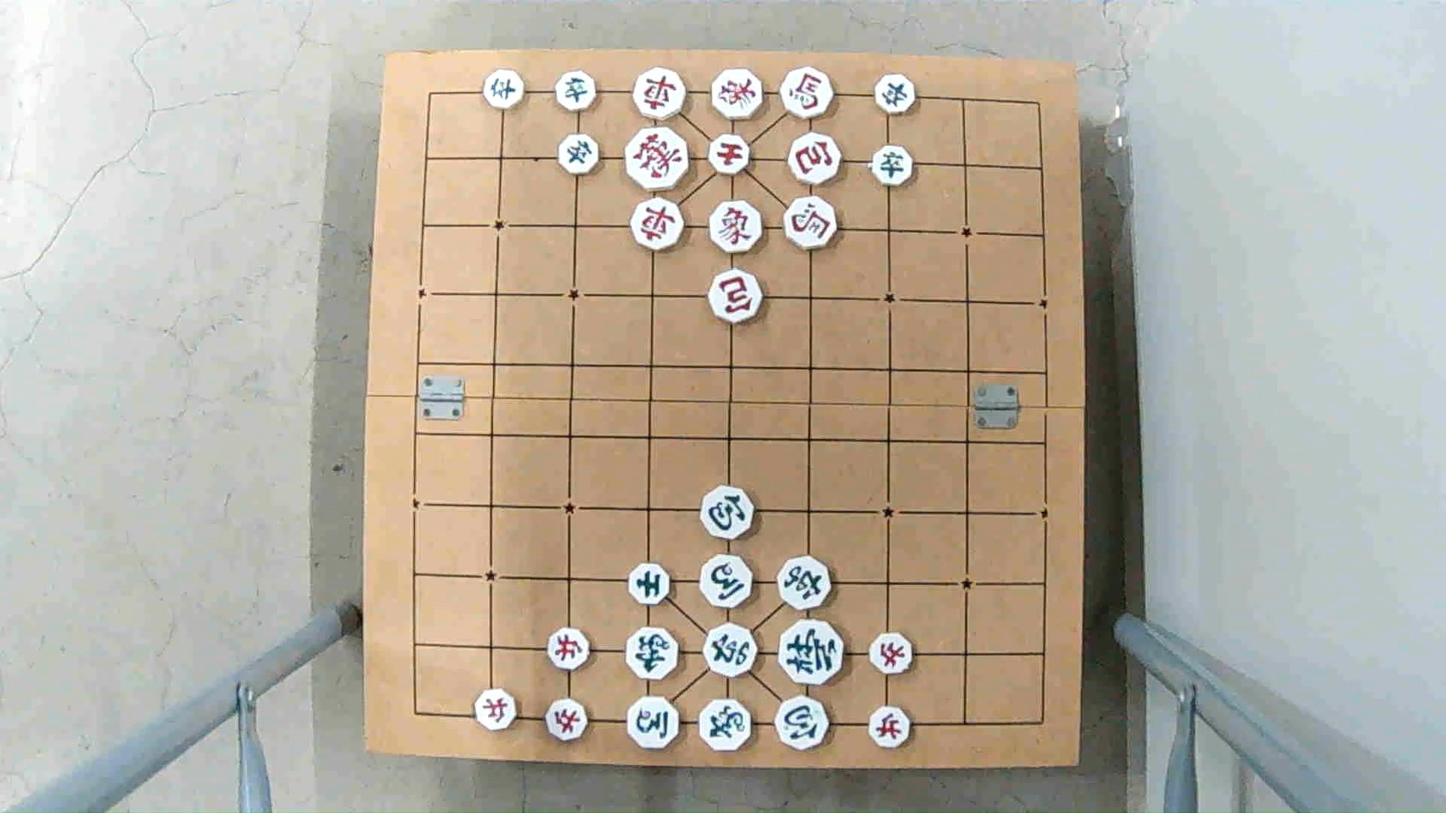cha_green: (702, 626, 758, 676), (776, 559, 831, 609)
cha_red: (633, 67, 685, 120), (630, 202, 685, 249)
jol_green: (872, 145, 917, 183), (557, 137, 599, 175), (874, 76, 917, 113), (555, 74, 597, 111), (484, 73, 527, 109)
jol_red: (868, 635, 915, 674), (868, 708, 913, 747), (548, 629, 593, 668), (547, 699, 592, 738), (476, 692, 520, 730)
ma_green: (626, 698, 683, 749), (701, 557, 757, 608)
ma_red: (785, 199, 841, 249), (781, 68, 835, 117)
po_green: (776, 699, 832, 748), (700, 488, 755, 537)
po_red: (707, 272, 764, 321), (790, 135, 844, 182)
sa_green: (627, 562, 673, 602)
sa_red: (707, 136, 752, 172)
sang_green: (700, 701, 752, 755), (626, 630, 678, 682)
sang_red: (708, 201, 764, 260), (709, 71, 764, 119)
wang_green: (780, 620, 847, 684)
wang_red: (625, 127, 688, 188)
